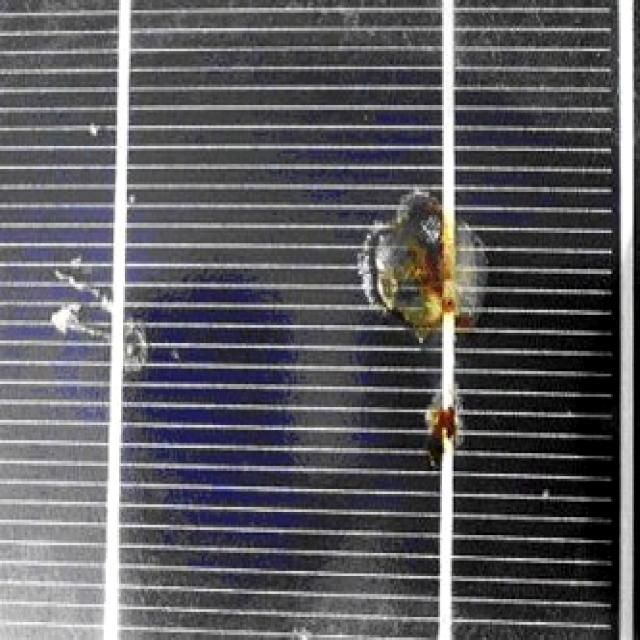shadow: (342, 99, 504, 514), (23, 219, 176, 384)
